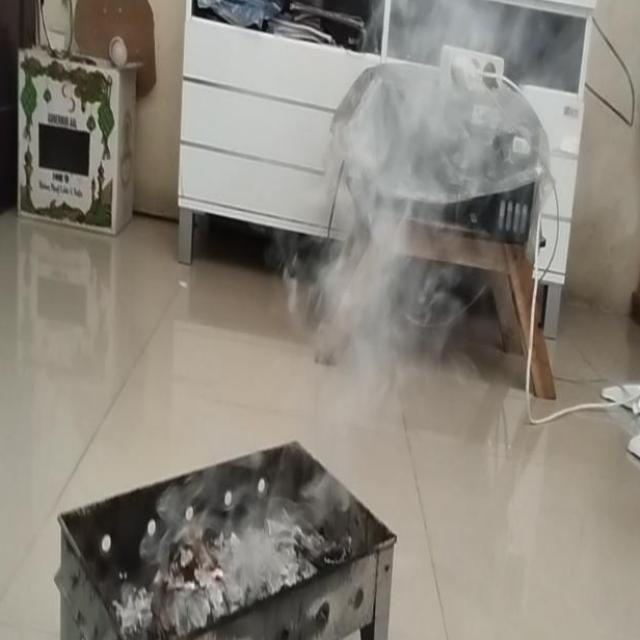fire: (304, 86, 446, 404), (141, 438, 380, 581)
